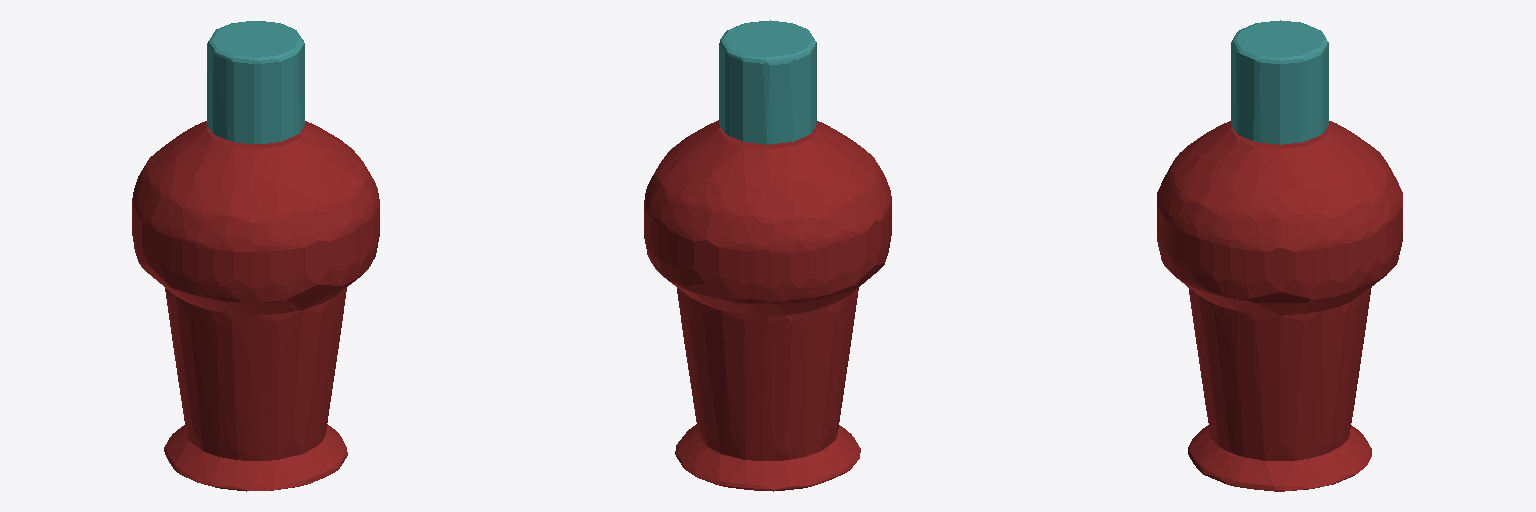
The robot description file, URDF, robot "root":
<robot name="root">
  <link name="bottle_body">
    <inertial>
      <origin xyz="0 0 0" rpy="0 0 0"/>
    </inertial>
    <mass value="1.00E-02"/>
    <visual>
      <origin xyz="0 0 0" rpy="0 0 0"/>
      <geometry>
        <mesh filename="core-bottle-d34628eb8992d1f418ae046addd85243-coacd_convex_piece_3.obj" scale="1.0000E-01 1.0000E-01 1.0000E-01"/>
      </geometry>
      <material name="">
        <color rgba="6.00E-01 2.00E-01 2.00E-01 1"/>
      </material>
    </visual>
    <collision>
      <origin xyz="0 0 0" rpy="0 0 0"/>
      <geometry>
        <mesh filename="core-bottle-d34628eb8992d1f418ae046addd85243-coacd_convex_piece_3.obj" scale="1.0000E-01 1.0000E-01 1.0000E-01"/>
      </geometry>
    </collision>
    <visual>
      <origin xyz="0 0 0" rpy="0 0 0"/>
      <geometry>
        <mesh filename="core-bottle-d34628eb8992d1f418ae046addd85243-coacd_convex_piece_1.obj" scale="1.0000E-01 1.0000E-01 1.0000E-01"/>
      </geometry>
      <material name="">
        <color rgba="6.00E-01 2.00E-01 2.00E-01 1"/>
      </material>
    </visual>
    <collision>
      <origin xyz="0 0 0" rpy="0 0 0"/>
      <geometry>
        <mesh filename="core-bottle-d34628eb8992d1f418ae046addd85243-coacd_convex_piece_1.obj" scale="1.0000E-01 1.0000E-01 1.0000E-01"/>
      </geometry>
    </collision>
    <visual>
      <origin xyz="0 0 0" rpy="0 0 0"/>
      <geometry>
        <mesh filename="core-bottle-d34628eb8992d1f418ae046addd85243-coacd_convex_piece_2.obj" scale="1.0000E-01 1.0000E-01 1.0000E-01"/>
      </geometry>
      <material name="">
        <color rgba="6.00E-01 2.00E-01 2.00E-01 1"/>
      </material>
    </visual>
    <collision>
      <origin xyz="0 0 0" rpy="0 0 0"/>
      <geometry>
        <mesh filename="core-bottle-d34628eb8992d1f418ae046addd85243-coacd_convex_piece_2.obj" scale="1.0000E-01 1.0000E-01 1.0000E-01"/>
      </geometry>
    </collision>
  </link>
  <link name="bottle_cap">
    <origin xyz="0 0 0.002" rpy="0 0 0"/>
    <mass value="1.00E-02"/>
    <visual>
      <origin xyz="0 0 0.002" rpy="0 0 0"/>
      <geometry>
        <mesh filename="core-bottle-d34628eb8992d1f418ae046addd85243-coacd_convex_piece_0.obj" scale="1.0000E-01 1.0000E-01 1.0000E-01"/>
      </geometry>
      <material name="">
        <color rgba="3.00E-01 6.00E-01 6.00E-01 1"/>
      </material>
    </visual>
    <collision>
      <origin xyz="0 0 0.002" rpy="0 0 0"/>
      <geometry>
        <mesh filename="core-bottle-d34628eb8992d1f418ae046addd85243-coacd_convex_piece_0.obj" scale="1.0000E-01 1.0000E-01 1.0000E-01"/>
      </geometry>
    </collision>
  </link>
  <joint name="bottle_cap_joint" type="revolute">
    <origin xyz="0 0 0" rpy="0 0 0"/>
    <parent link="bottle_body"/>
    <child link="bottle_cap"/>
    <axis xyz="0 0 1"/>
    <limit lower="0.00" upper="6.28"/>
    <dynamics damping="0.05"/>
  </joint>
</robot>

--- What the picture shows (computed from the rendered views, not written in the file) ---
Views: 3 orthographic renders of the robot side by side, from view 1: azimuth 30°, elevation 25°; view 2: azimuth 150°, elevation 25°; view 3: azimuth 270°, elevation 25°.
Model root with 2 links and 1 joints (1 revolute), rooted at bottle_body, posed every joint at zero.
Links seen in each view (by area): view 1: bottle_body, bottle_cap; view 2: bottle_body, bottle_cap; view 3: bottle_body, bottle_cap.
Boxes of the visible links, left/top/right/bottom form: bottle_body: left=132, top=121, right=379, bottom=491; bottle_cap: left=207, top=21, right=304, bottom=143; bottle_body: left=644, top=120, right=891, bottom=491; bottle_cap: left=719, top=20, right=816, bottom=144; bottle_body: left=1157, top=121, right=1402, bottom=491; bottle_cap: left=1231, top=20, right=1328, bottom=144.
Size in the robot's own frame: 0.099 by 0.099 by 0.1841 metres.
4 mesh visuals loaded from 4 distinct referenced files (4 OBJ).